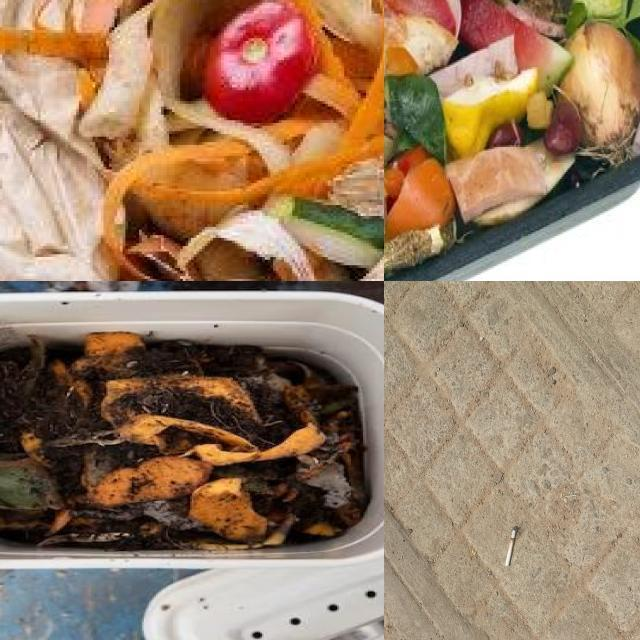Background: (384, 281, 640, 640)
Cig_bud: (504, 526, 518, 567)
Garbage: (53, 0, 384, 281), (0, 332, 368, 549), (384, 0, 640, 274)
